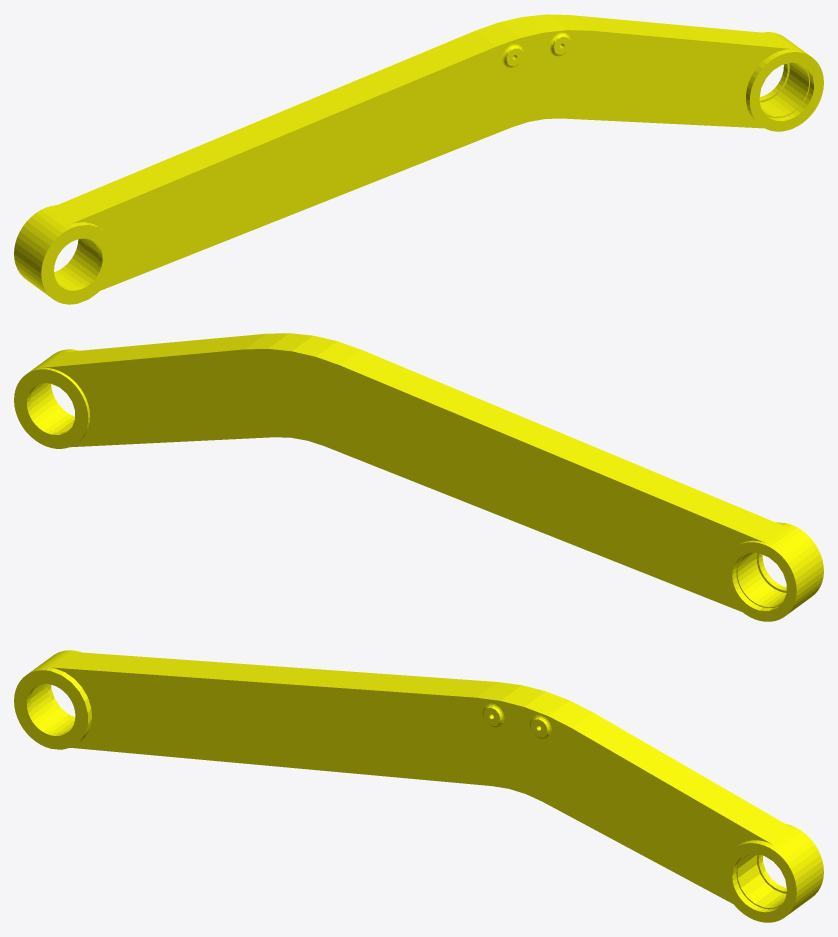
3 renders of one model, top to bottom at view 1: azimuth 30°, elevation 25°; view 2: azimuth 150°, elevation 25°; view 3: azimuth 330°, elevation 25°, orthographic.
Parts seen in each view (by area): view 1: node; view 2: node; view 3: node.
Boxes of the visible parts, bbox=[...] form: node: bbox=[14, 14, 823, 304]; node: bbox=[14, 333, 823, 621]; node: bbox=[14, 650, 823, 922].
Bounding box in the file's own units: 1160 × 218 × 134.
